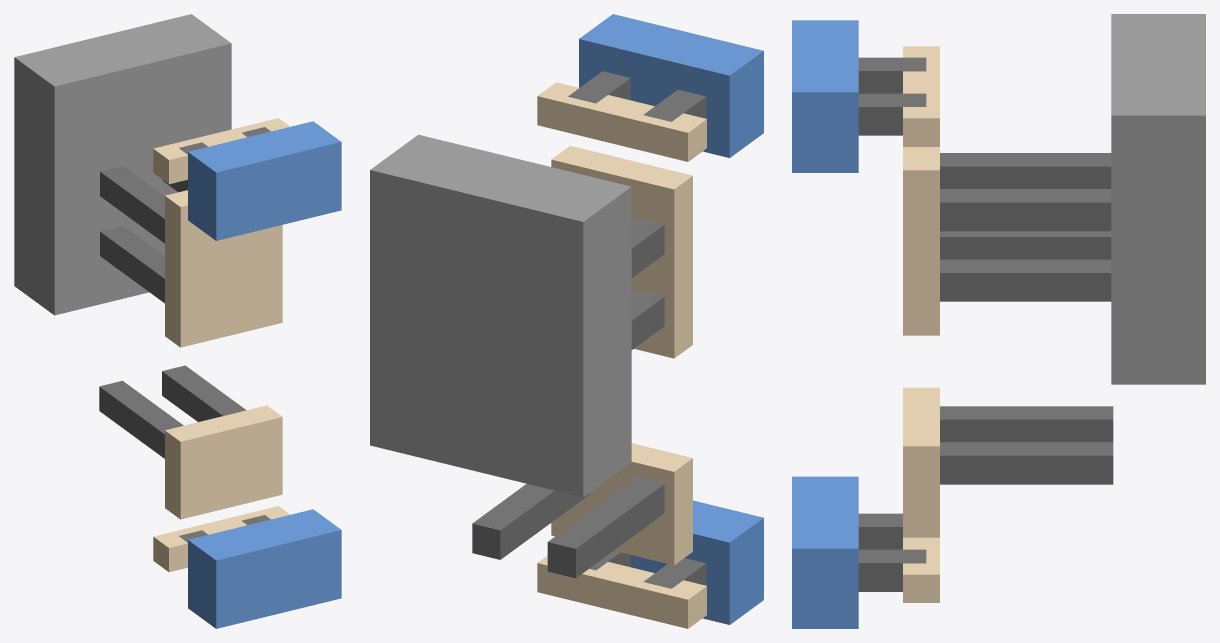
Rendered from sky130_fd_sc_hd__tap_2.gds.gltf.
The picture shows the model from 3 angles, left to right: view 1: azimuth 30°, elevation 25°; view 2: azimuth 150°, elevation 25°; view 3: azimuth 270°, elevation 25°; orthographic projection. The views are drawn at different scales.
Parts seen in each view (by area): view 1: sky130_fd_sc_hd__tap_2_nwell, sky130_fd_sc_hd__tap_2_li1, sky130_fd_sc_hd__tap_2_met1, sky130_fd_sc_hd__tap_2_licon, sky130_fd_sc_hd__tap_2_mcon; view 2: sky130_fd_sc_hd__tap_2_nwell, sky130_fd_sc_hd__tap_2_li1, sky130_fd_sc_hd__tap_2_met1, sky130_fd_sc_hd__tap_2_licon, sky130_fd_sc_hd__tap_2_mcon; view 3: sky130_fd_sc_hd__tap_2_licon, sky130_fd_sc_hd__tap_2_nwell, sky130_fd_sc_hd__tap_2_met1, sky130_fd_sc_hd__tap_2_li1, sky130_fd_sc_hd__tap_2_mcon.
Boxes of the visible parts, bbox=[...] form: sky130_fd_sc_hd__tap_2_nwell: bbox=[14, 14, 231, 315]; sky130_fd_sc_hd__tap_2_li1: bbox=[153, 118, 290, 572]; sky130_fd_sc_hd__tap_2_met1: bbox=[188, 121, 341, 628]; sky130_fd_sc_hd__tap_2_licon: bbox=[99, 166, 246, 458]; sky130_fd_sc_hd__tap_2_mcon: bbox=[179, 127, 270, 542]; sky130_fd_sc_hd__tap_2_nwell: bbox=[370, 134, 631, 497]; sky130_fd_sc_hd__tap_2_li1: bbox=[537, 82, 706, 628]; sky130_fd_sc_hd__tap_2_met1: bbox=[579, 14, 763, 624]; sky130_fd_sc_hd__tap_2_licon: bbox=[472, 218, 664, 578]; sky130_fd_sc_hd__tap_2_mcon: bbox=[568, 71, 706, 588]; sky130_fd_sc_hd__tap_2_licon: bbox=[940, 153, 1113, 484]; sky130_fd_sc_hd__tap_2_nwell: bbox=[1111, 14, 1205, 384]; sky130_fd_sc_hd__tap_2_met1: bbox=[792, 20, 858, 628]; sky130_fd_sc_hd__tap_2_li1: bbox=[903, 46, 939, 602]; sky130_fd_sc_hd__tap_2_mcon: bbox=[858, 57, 926, 591].
Size of the model in its own units: 1.3 by 3.2 by 2.24.
